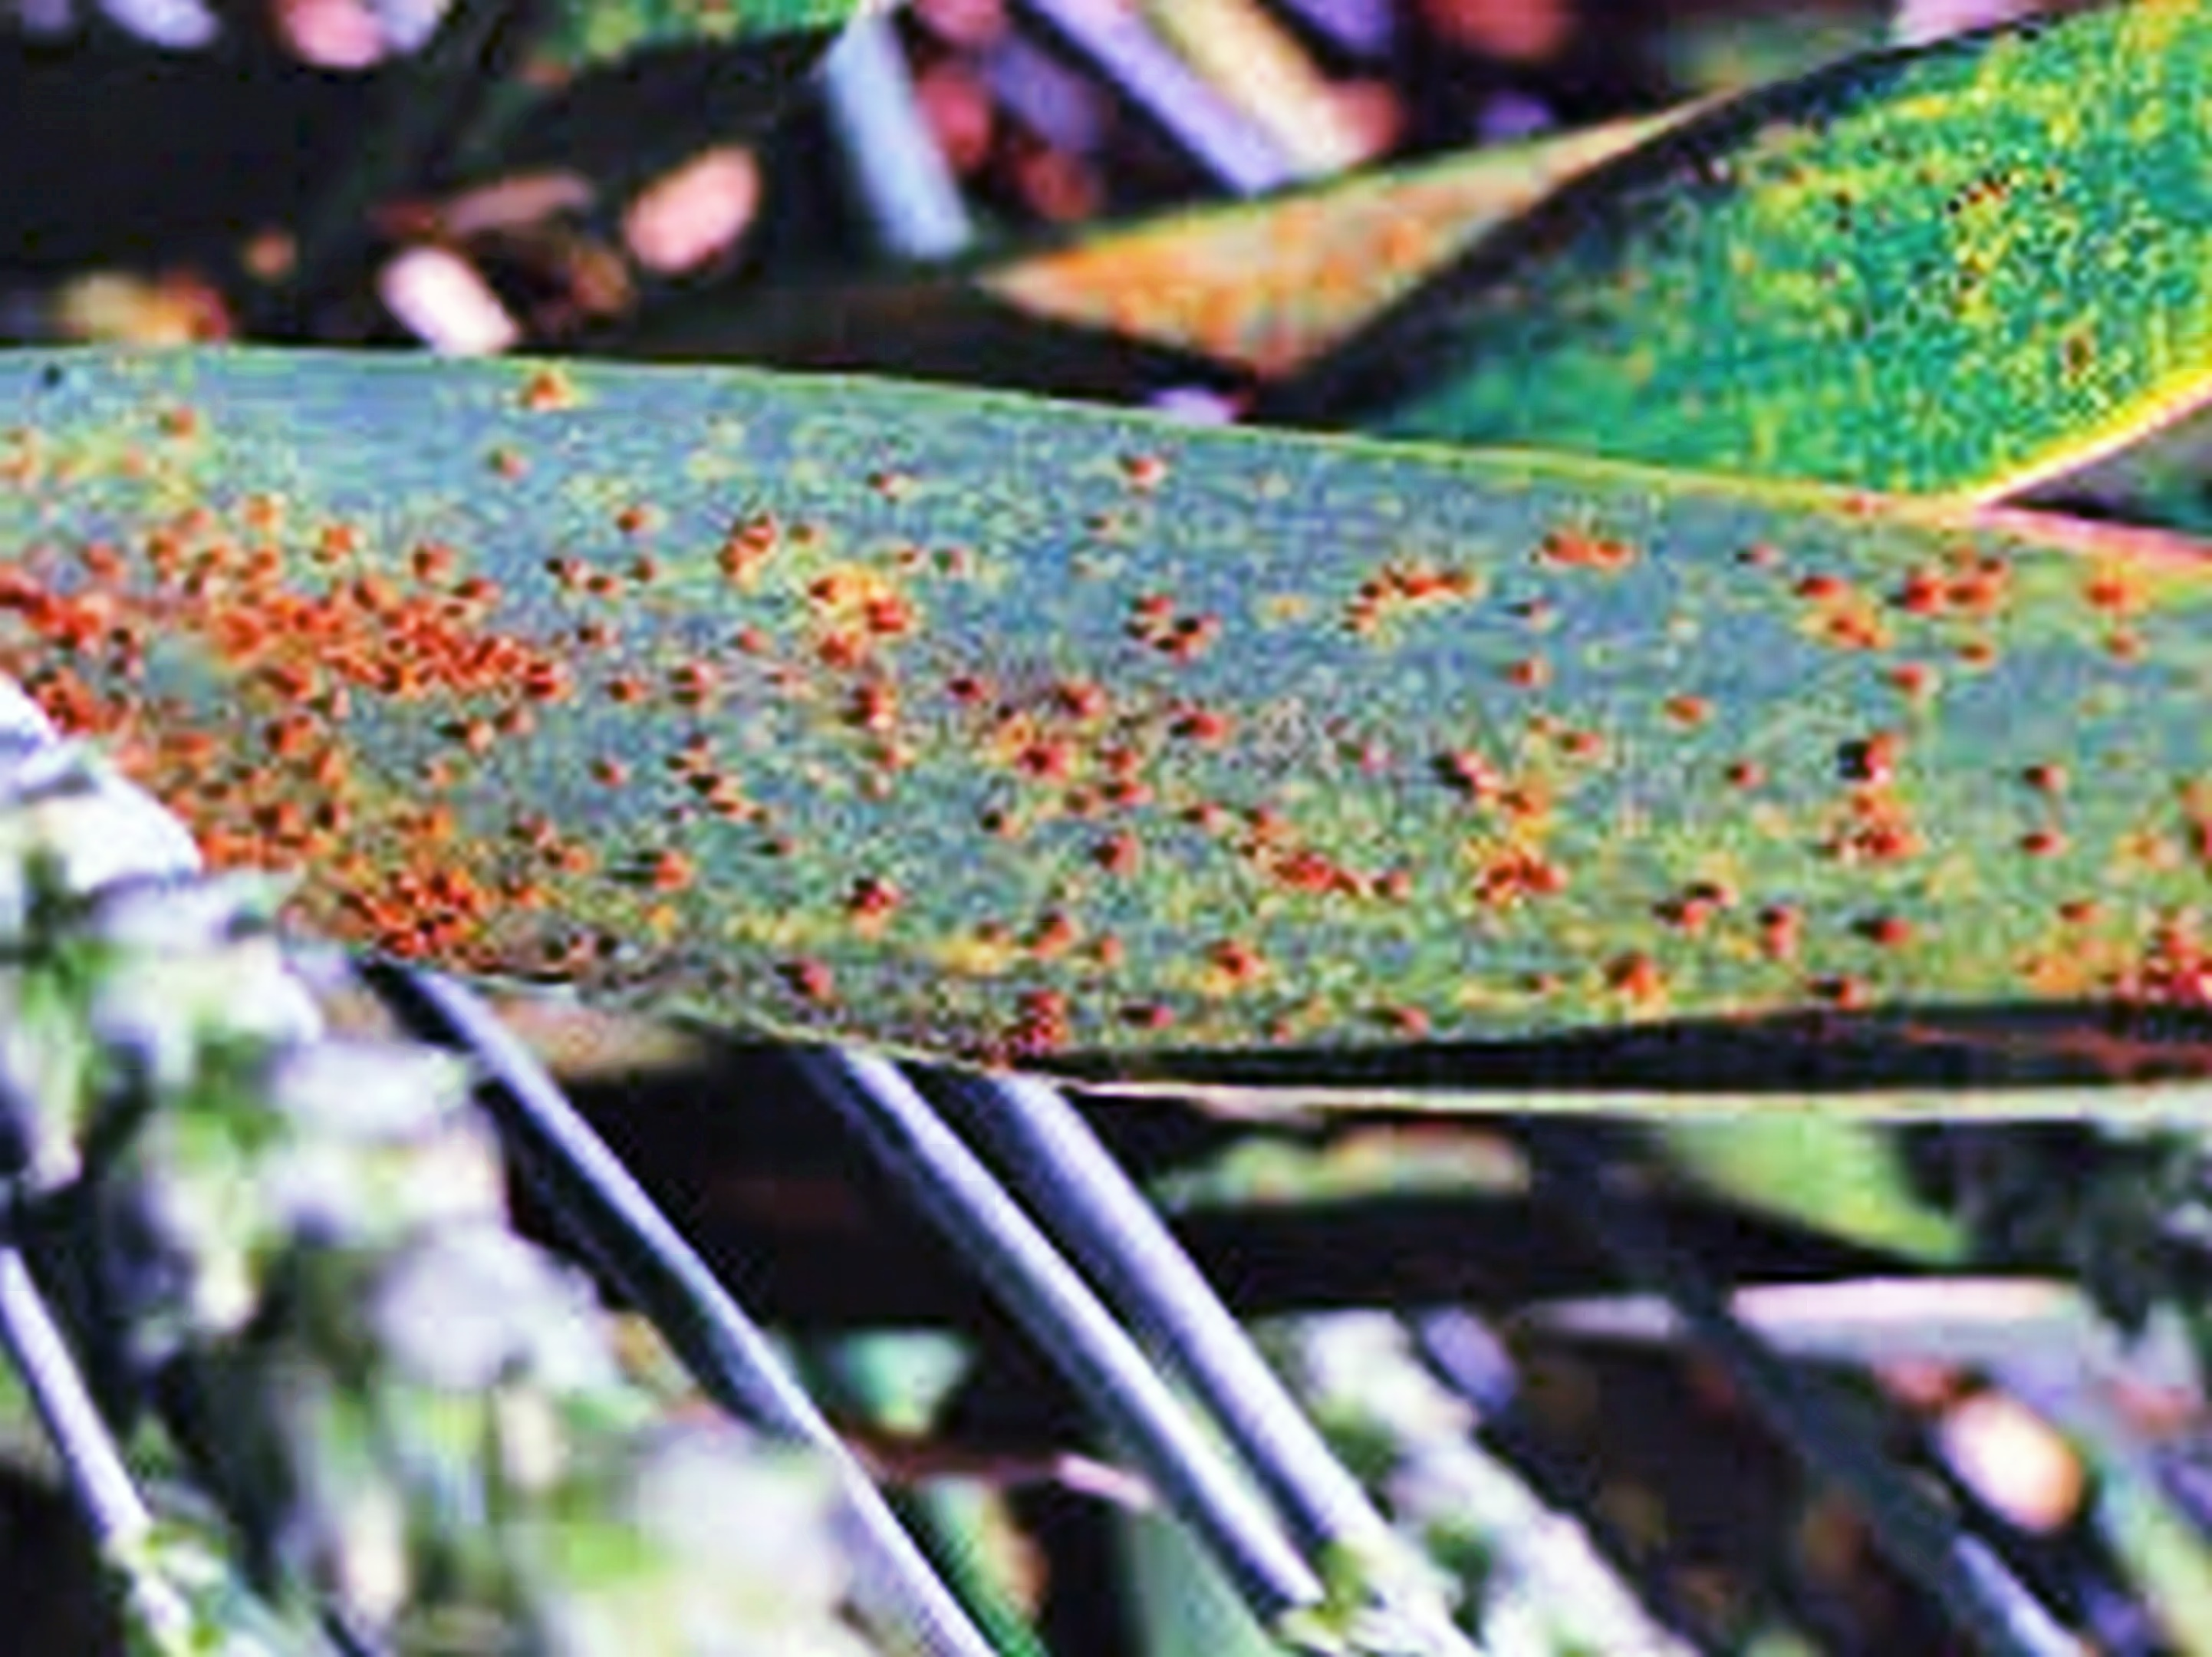Leaf Rust: (104, 369, 1998, 1046)
